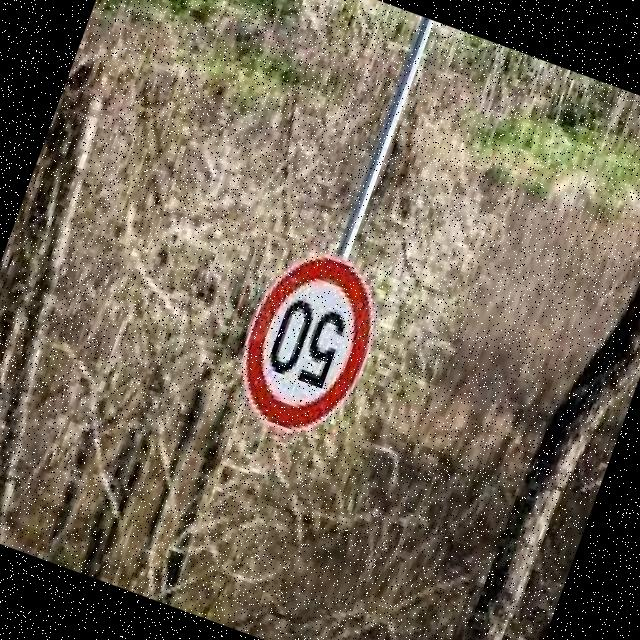speed_limit_50: (212, 230, 401, 465)
